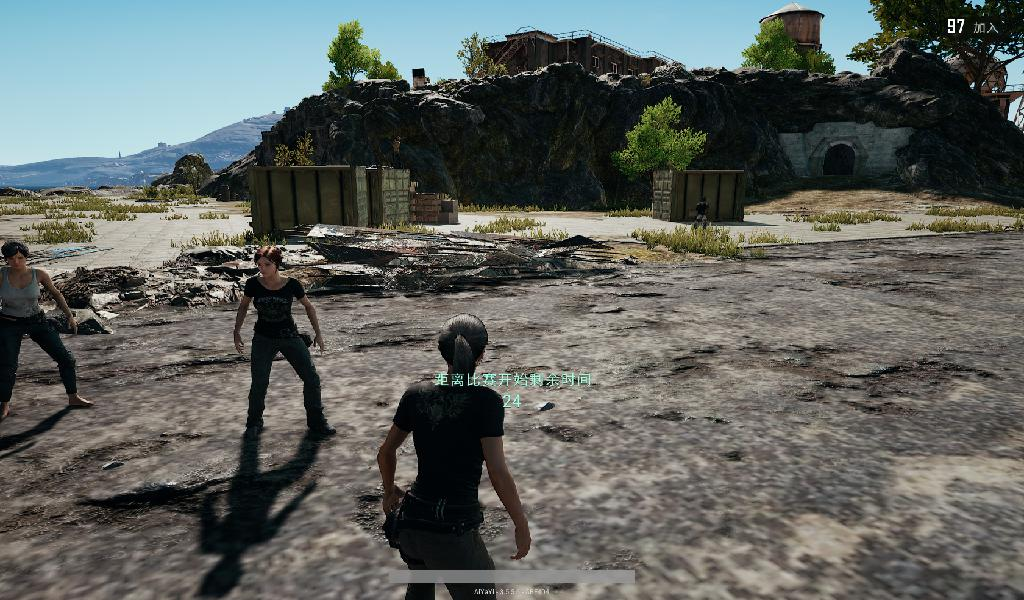Target Person: (380, 312, 535, 600), (230, 245, 339, 442), (1, 240, 94, 411), (691, 194, 711, 240)
